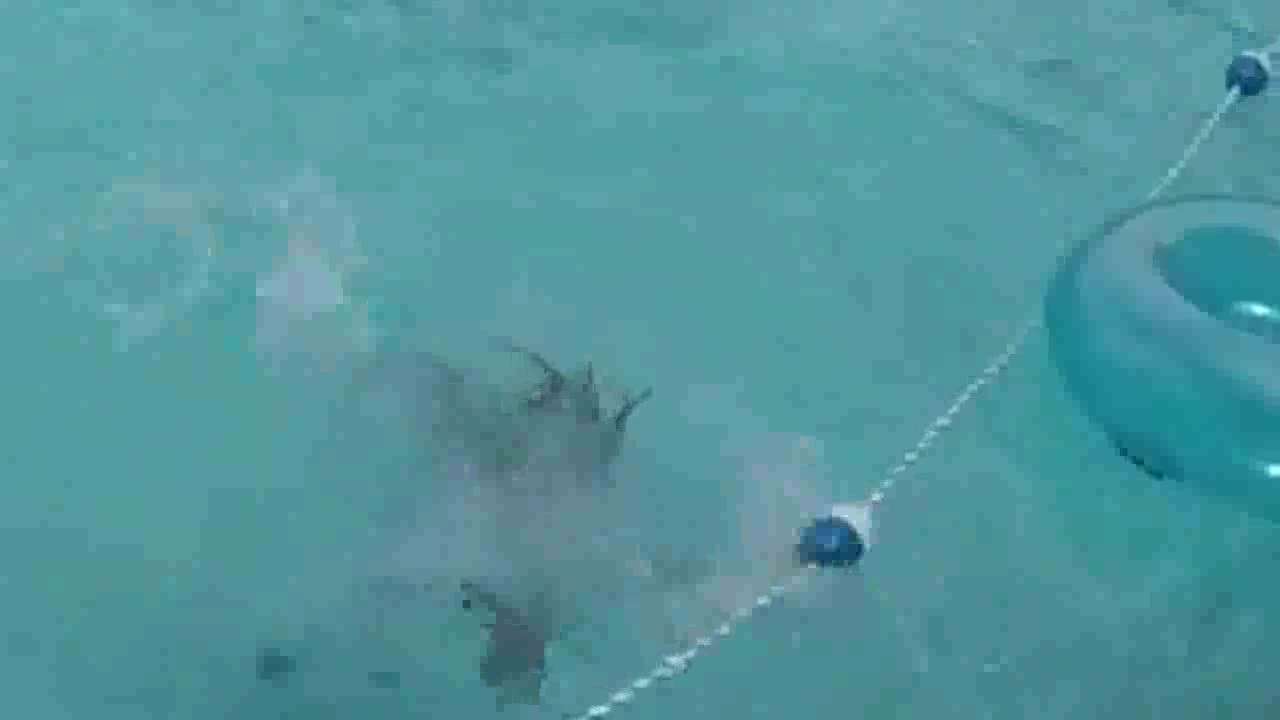Drowning: (389, 339, 789, 570)
